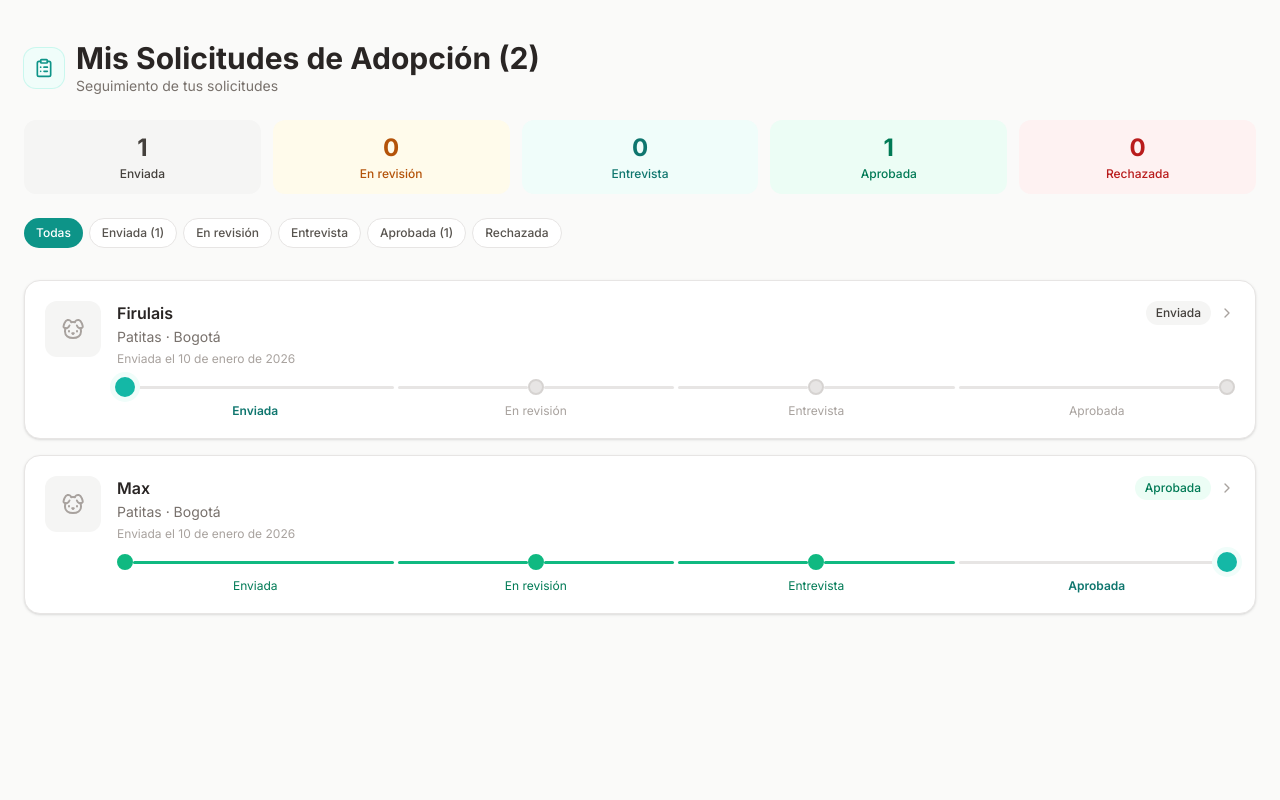
Scenario: MisSolicitudesPage › filters by status when chip is clicked
Click the button "Aprobada (1)" at (417, 233), box [367,218,466,248]
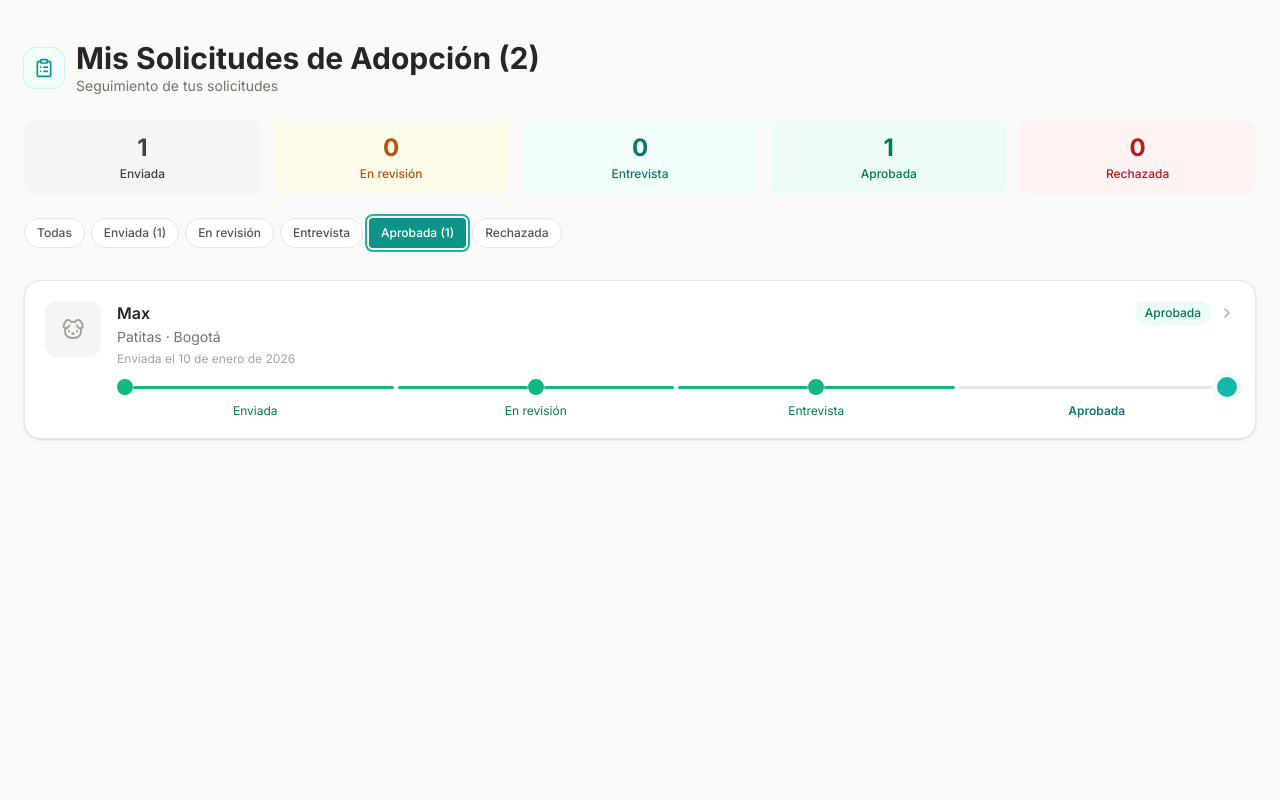
Expected: the heading "Max" is shown, [117,301,150,325]
Expected: the link "Firulais" is gone
